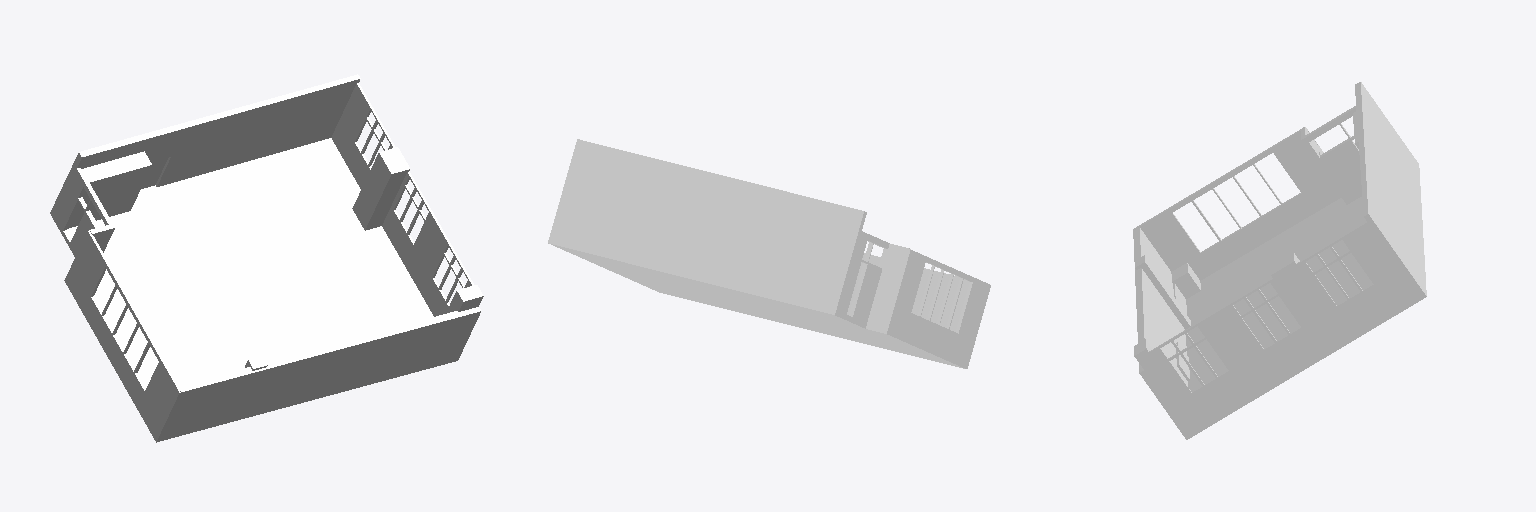
Rendered from Classroom.obj.
The picture shows the model from 3 angles: view 1: azimuth 30°, elevation 25°; view 2: azimuth 150°, elevation 25°; view 3: azimuth 270°, elevation 25°; orthographic projection.
Size of the model in its own units: 20.5 by 14.32 by 16.77.